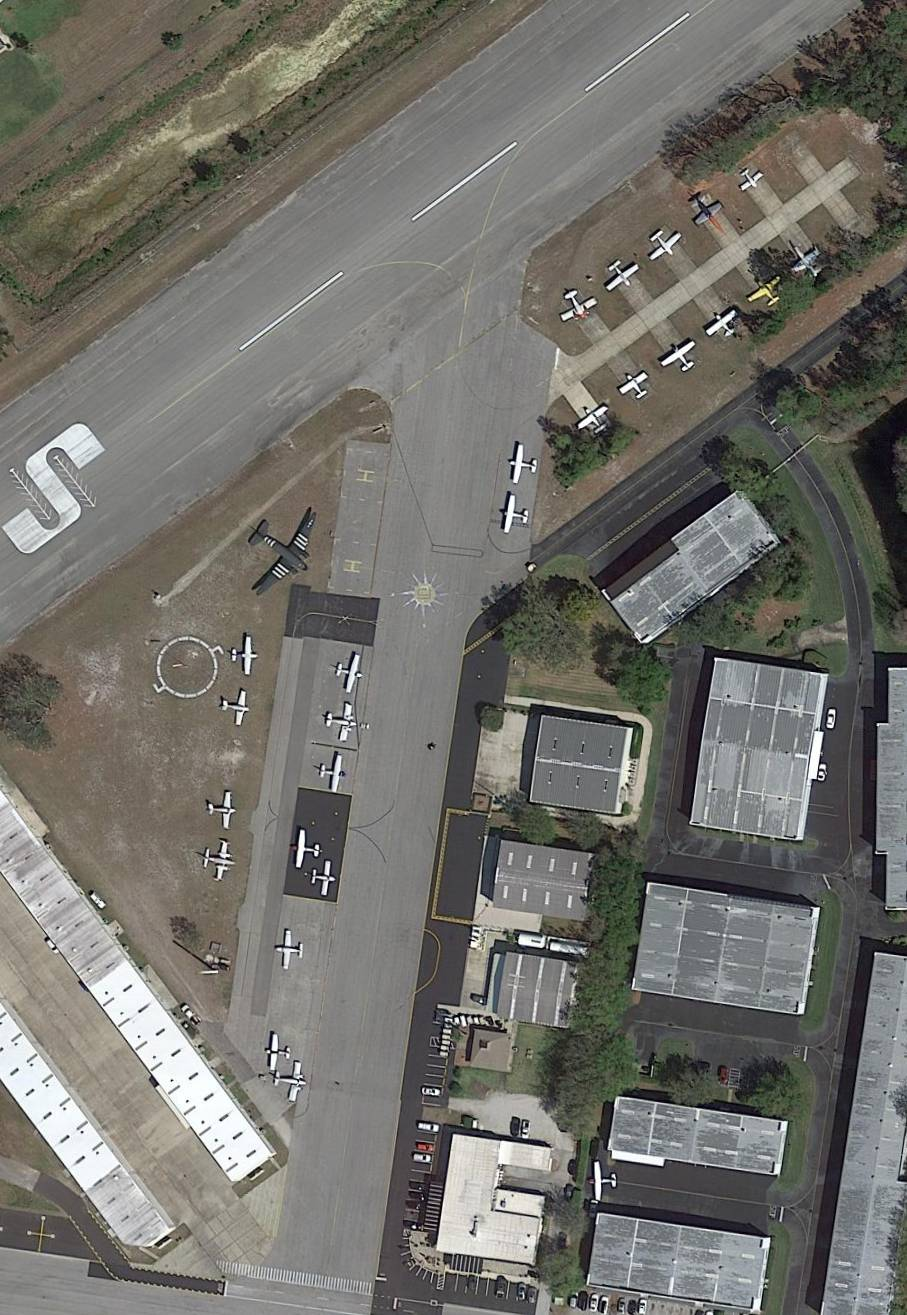plane: (219, 488, 340, 611), (774, 229, 832, 289), (638, 220, 688, 269), (657, 334, 705, 382), (680, 185, 728, 232), (552, 283, 601, 329), (598, 253, 645, 300), (742, 269, 790, 314), (198, 837, 239, 885), (702, 304, 746, 348), (271, 1058, 311, 1106), (572, 399, 617, 440), (322, 699, 359, 746), (615, 365, 655, 407), (288, 826, 323, 872), (333, 650, 367, 697), (508, 442, 540, 487), (499, 493, 531, 537), (206, 789, 238, 832), (220, 686, 253, 727), (273, 928, 305, 970), (318, 750, 348, 794), (263, 1032, 294, 1072), (310, 858, 339, 898), (733, 163, 767, 197), (232, 635, 259, 676)
